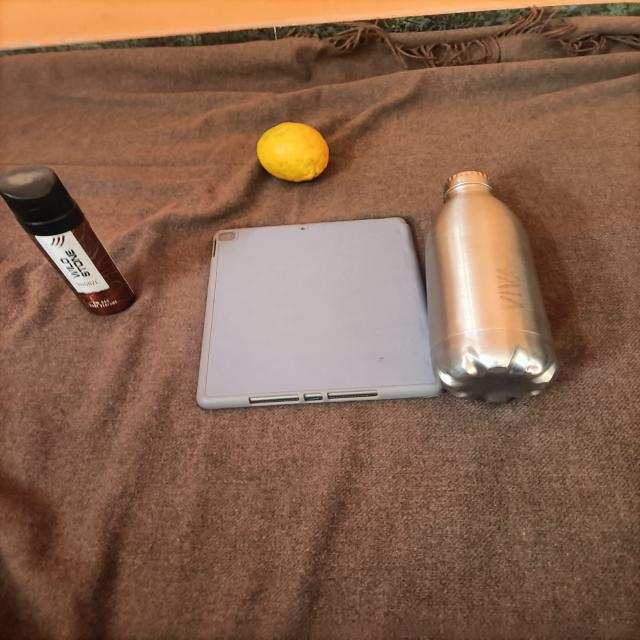bottle: (418, 165, 573, 426)
orange: (245, 118, 343, 190)
spray: (0, 157, 145, 341)
tablet: (195, 195, 458, 423)
